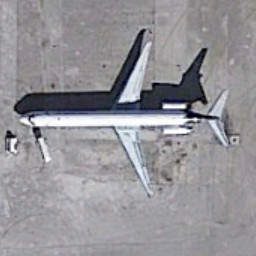Airplane: (12, 21, 241, 213)
